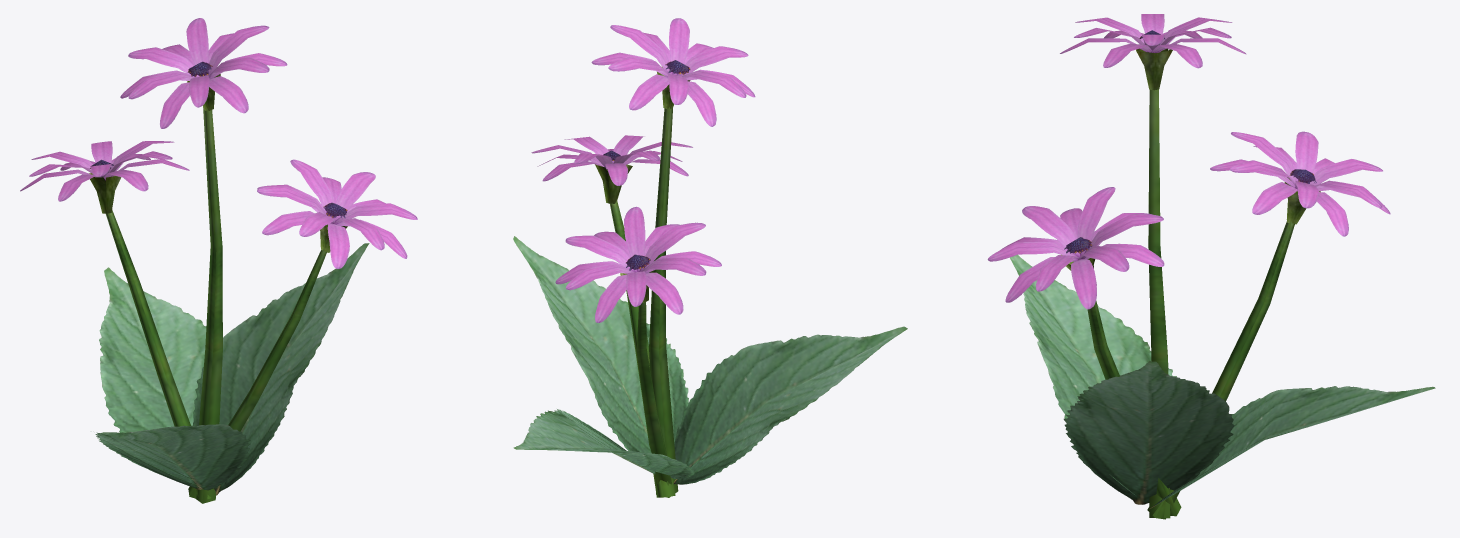
File: pinkf3.fbx
3 views of the same model, side by side, from view 1: azimuth 30°, elevation 25°; view 2: azimuth 150°, elevation 25°; view 3: azimuth 270°, elevation 25° (orthographic). The views are drawn at different scales.
Visible parts, largest first — view 1: pinkf03; view 2: pinkf03; view 3: pinkf03.
Boxes of the visible parts, bbox=[...] form: pinkf03: bbox=[20, 18, 417, 503]; pinkf03: bbox=[513, 18, 907, 497]; pinkf03: bbox=[987, 14, 1435, 519].
Bounding box in the file's own units: 25.5 × 28.77 × 25.97.
